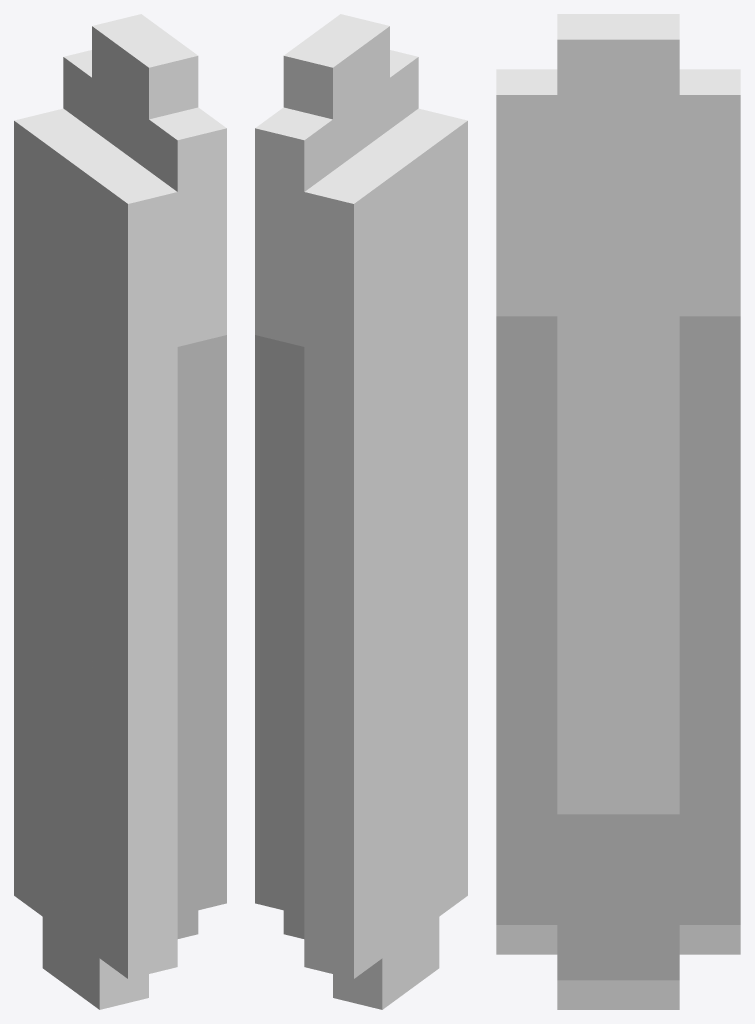
File: penguin05_rightArm.obj
3 views of the same model, side by side, from view 1: azimuth 30°, elevation 25°; view 2: azimuth 150°, elevation 25°; view 3: azimuth 270°, elevation 25° (orthographic). The views are drawn at different scales.
Size of the model in its own units: 0.2 by 1.8 by 0.4.
Materials: 1 (1 with a texture image).
